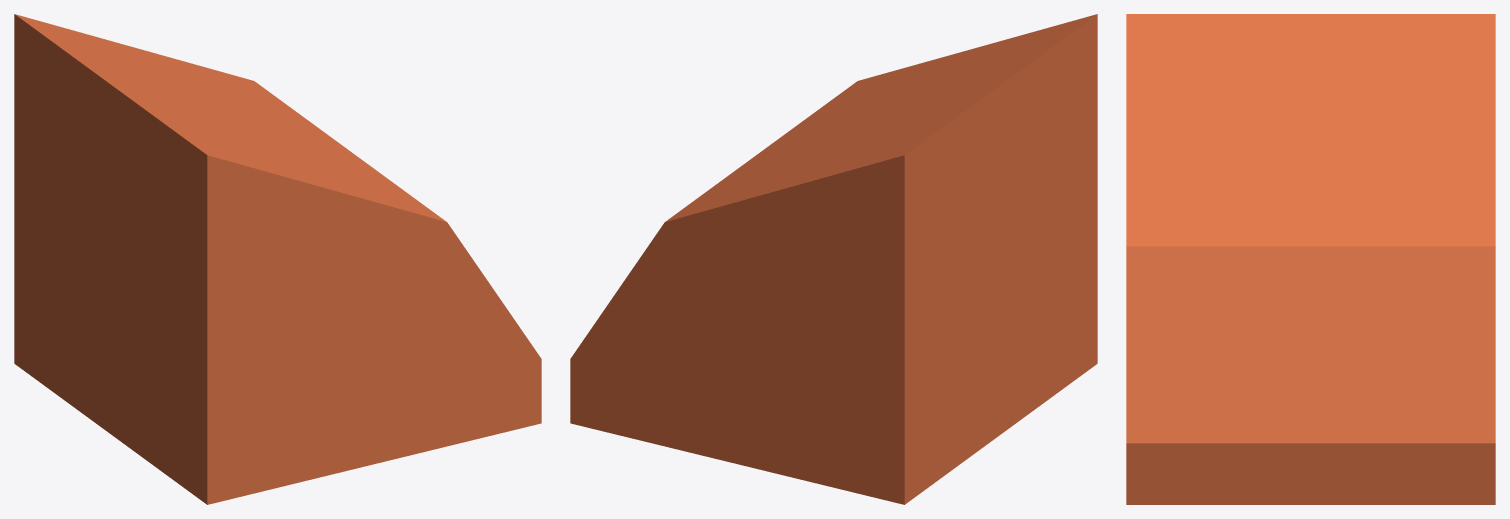
3 renders of one model, left to right at view 1: azimuth 30°, elevation 25°; view 2: azimuth 150°, elevation 25°; view 3: azimuth 270°, elevation 25°, orthographic. The views are drawn at different scales.
Visible parts, largest first — view 1: Cube; view 2: Cube; view 3: Cube.
Boxes of the visible parts, x1=… form: Cube: x1=14, y1=14, x2=541, y2=504; Cube: x1=570, y1=14, x2=1097, y2=504; Cube: x1=1126, y1=14, x2=1495, y2=504.
Size of the model in its own units: 0.08 by 0.08 by 0.08.
